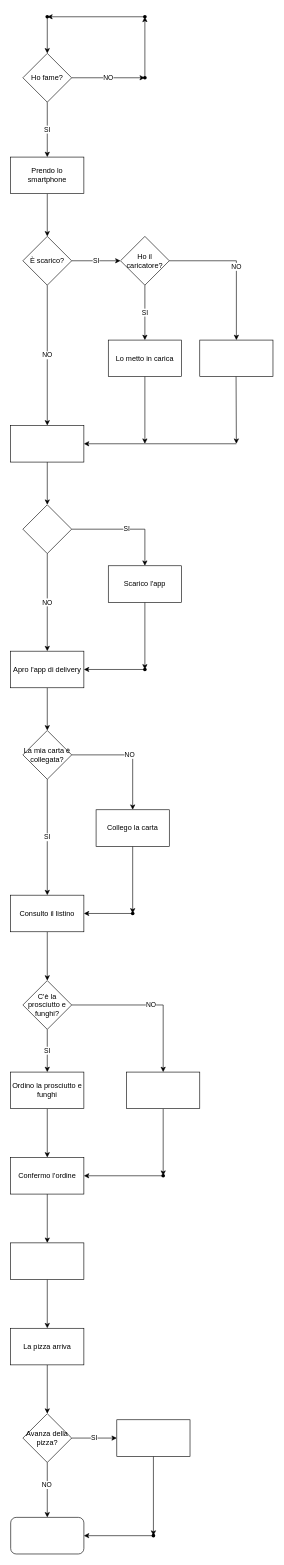
The diagram is 284 pixels wide and 1565 high, and some of its shapes have lost their labels. Here are the shapes that lost their labels. From the top down, the box of each, then its label:
(199, 339, 273, 377): Uso un altro telefono
(10, 425, 84, 462): Sblocco lo smartphone
(22, 504, 72, 554): Non ho l'app di delivery?
(126, 1071, 200, 1109): Ordino un'altra pizza
(10, 1242, 84, 1279): Apparecchio la tavola
(116, 1419, 190, 1456): La metto in frigorifero
(10, 1517, 84, 1554): FINE
